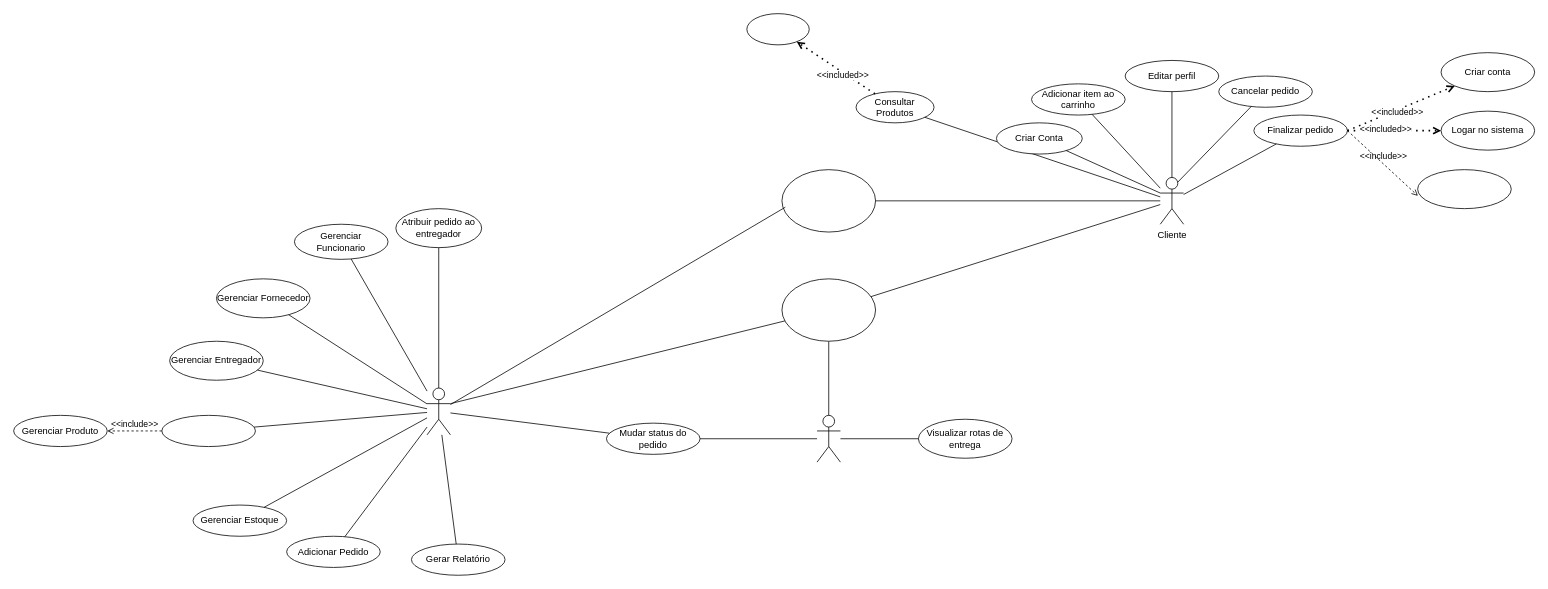
Image size: 1548x589. Some labels were removed from this diagram. Here are the shapes that lost their labels. From the top down, the box of each, then its label:
(746, 13, 809, 45): Consultar variações
(781, 169, 876, 232): Acompanhar entrega
(1417, 169, 1511, 209): Calcular Frete
(781, 278, 876, 341): Consultar Pedidos
(161, 415, 255, 447): Gerenciar Categoria
(426, 387, 450, 435): Funcionário
(816, 415, 840, 462): Entregador
